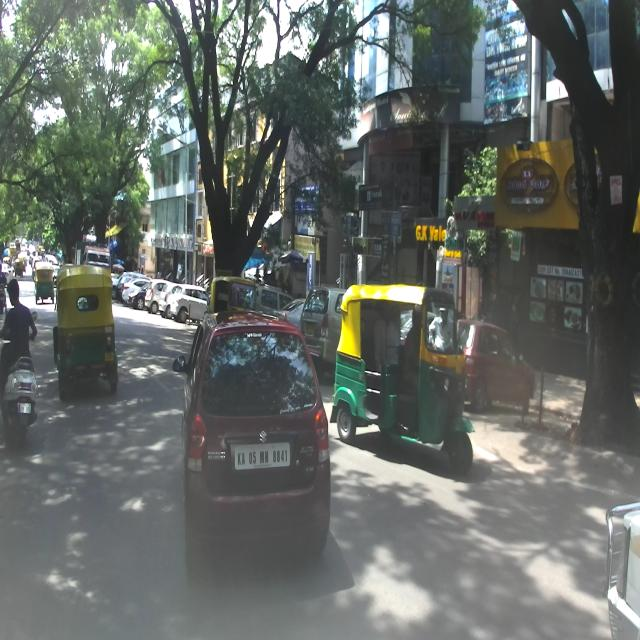auto ahead at: (339, 281, 474, 486), (58, 272, 117, 399)
car ahead at: (168, 311, 334, 564)
motorcycle ahead at: (3, 357, 37, 444)
tree ahead at: (567, 60, 639, 444)
